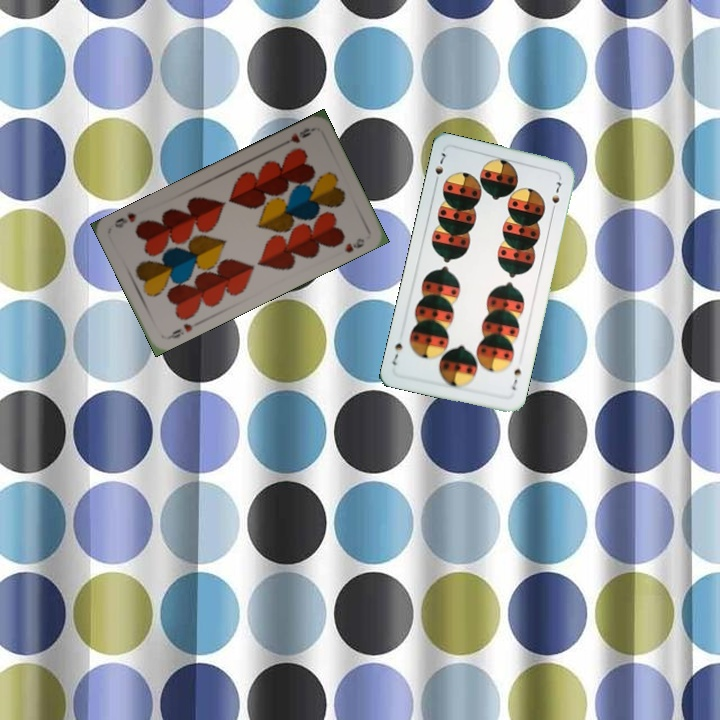H9: (278, 123, 316, 148), (163, 318, 201, 342)
S7: (431, 148, 448, 187), (508, 364, 524, 393)
